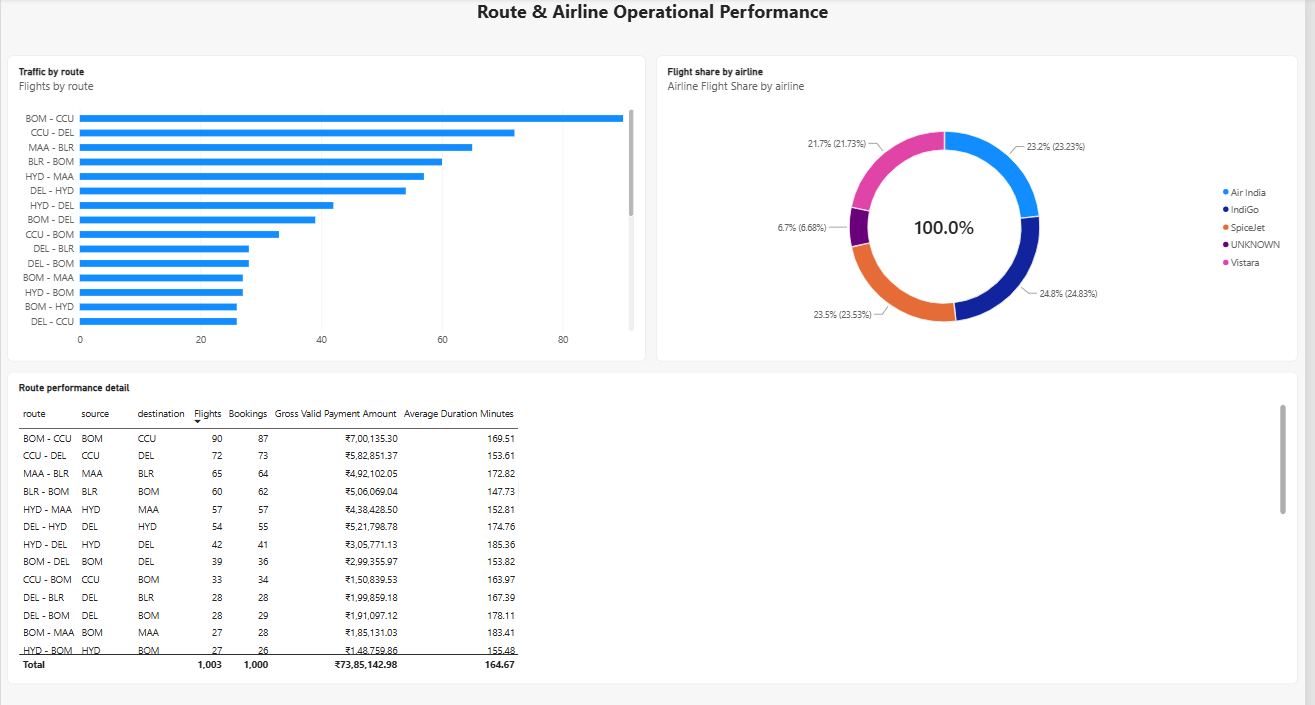

The page's visual inventory and layout, read from the dashboard file:
{"tool":"powerbi","page":{"name":"Route & Airline Performance","canvas":[1920,1080],"ordinal":2},"visuals":[{"type":"textbox","box":[10,0,1900,70],"z":0},{"type":"clusteredBarChart","title":"Traffic by route","fields":{"Category":["dim_route.route"],"Y":["_Measures.Flights"]},"box":[10,85,940,450],"z":100},{"type":"donutChart","title":"Flight share by airline","fields":{"Category":["dim_airline.airline"],"Y":["_Measures.Airline Flight Share"]},"box":[965,85,945,450],"z":110},{"type":"tableEx","title":"Route performance detail","fields":{"Values":["dim_route.route","dim_route.source","dim_route.destination","_Measures.Flights","_Measures.Bookings","_Measures.Gross Valid Payment Amount","_Measures.Average Duration Minutes"]},"box":[10,550,1900,460],"z":120}]}

Visuals, with their boxes on the page's 1920x1080 design canvas (x1, y1, x2, y2). These are canvas units, not pixel positions in the 1315x705 screenshot, which may show the page scaled, cropped or inside an application window:
textbox: 10:0:1910:70
"Traffic by route" clusteredBarChart: 10:85:950:535
"Flight share by airline" donutChart: 965:85:1910:535
"Route performance detail" tableEx: 10:550:1910:1010
